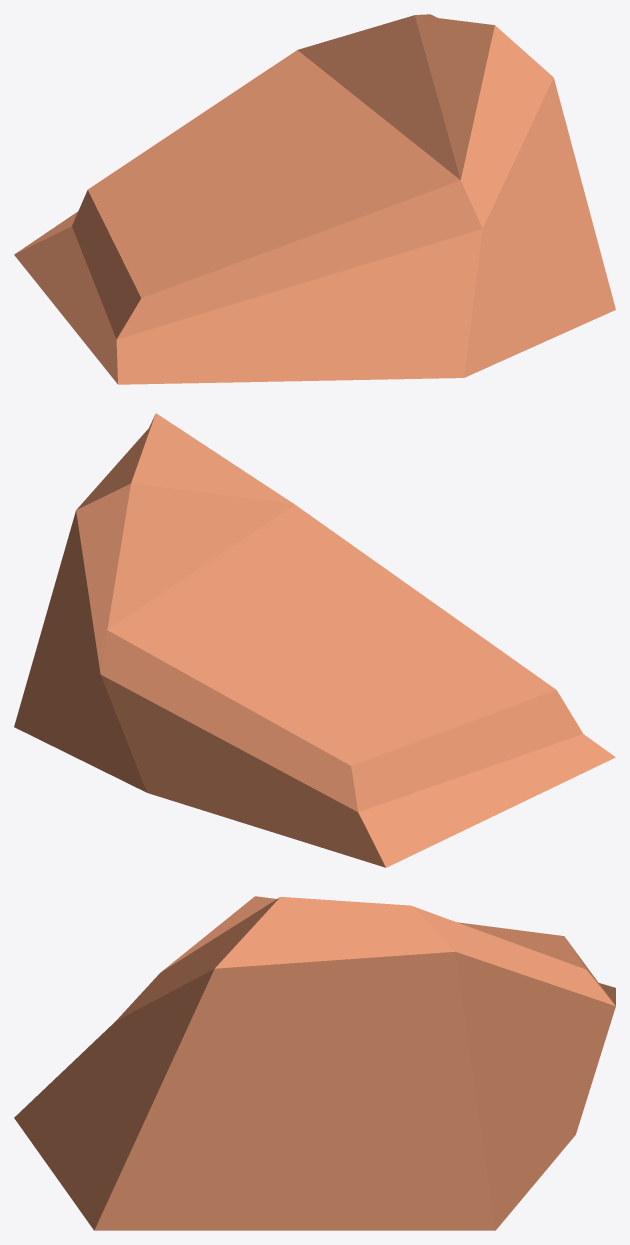
The model's file is Rock2.fbx.
3 views of the same model, one above another, from view 1: azimuth 30°, elevation 25°; view 2: azimuth 150°, elevation 25°; view 3: azimuth 270°, elevation 25° (orthographic). The views are drawn at different scales.
Visible parts, largest first — view 1: Rock.002; view 2: Rock.002; view 3: Rock.002.
Part boxes in pixels (bbox=[...]): Rock.002: bbox=[14, 14, 615, 384]; Rock.002: bbox=[14, 413, 615, 867]; Rock.002: bbox=[14, 896, 615, 1230].
Size of the model in its own units: 163 by 83.87 by 150.
